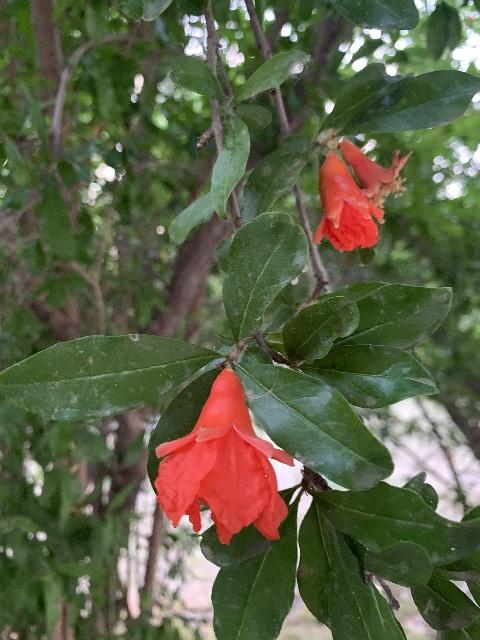flower: (154, 368, 294, 543), (312, 150, 383, 251)
